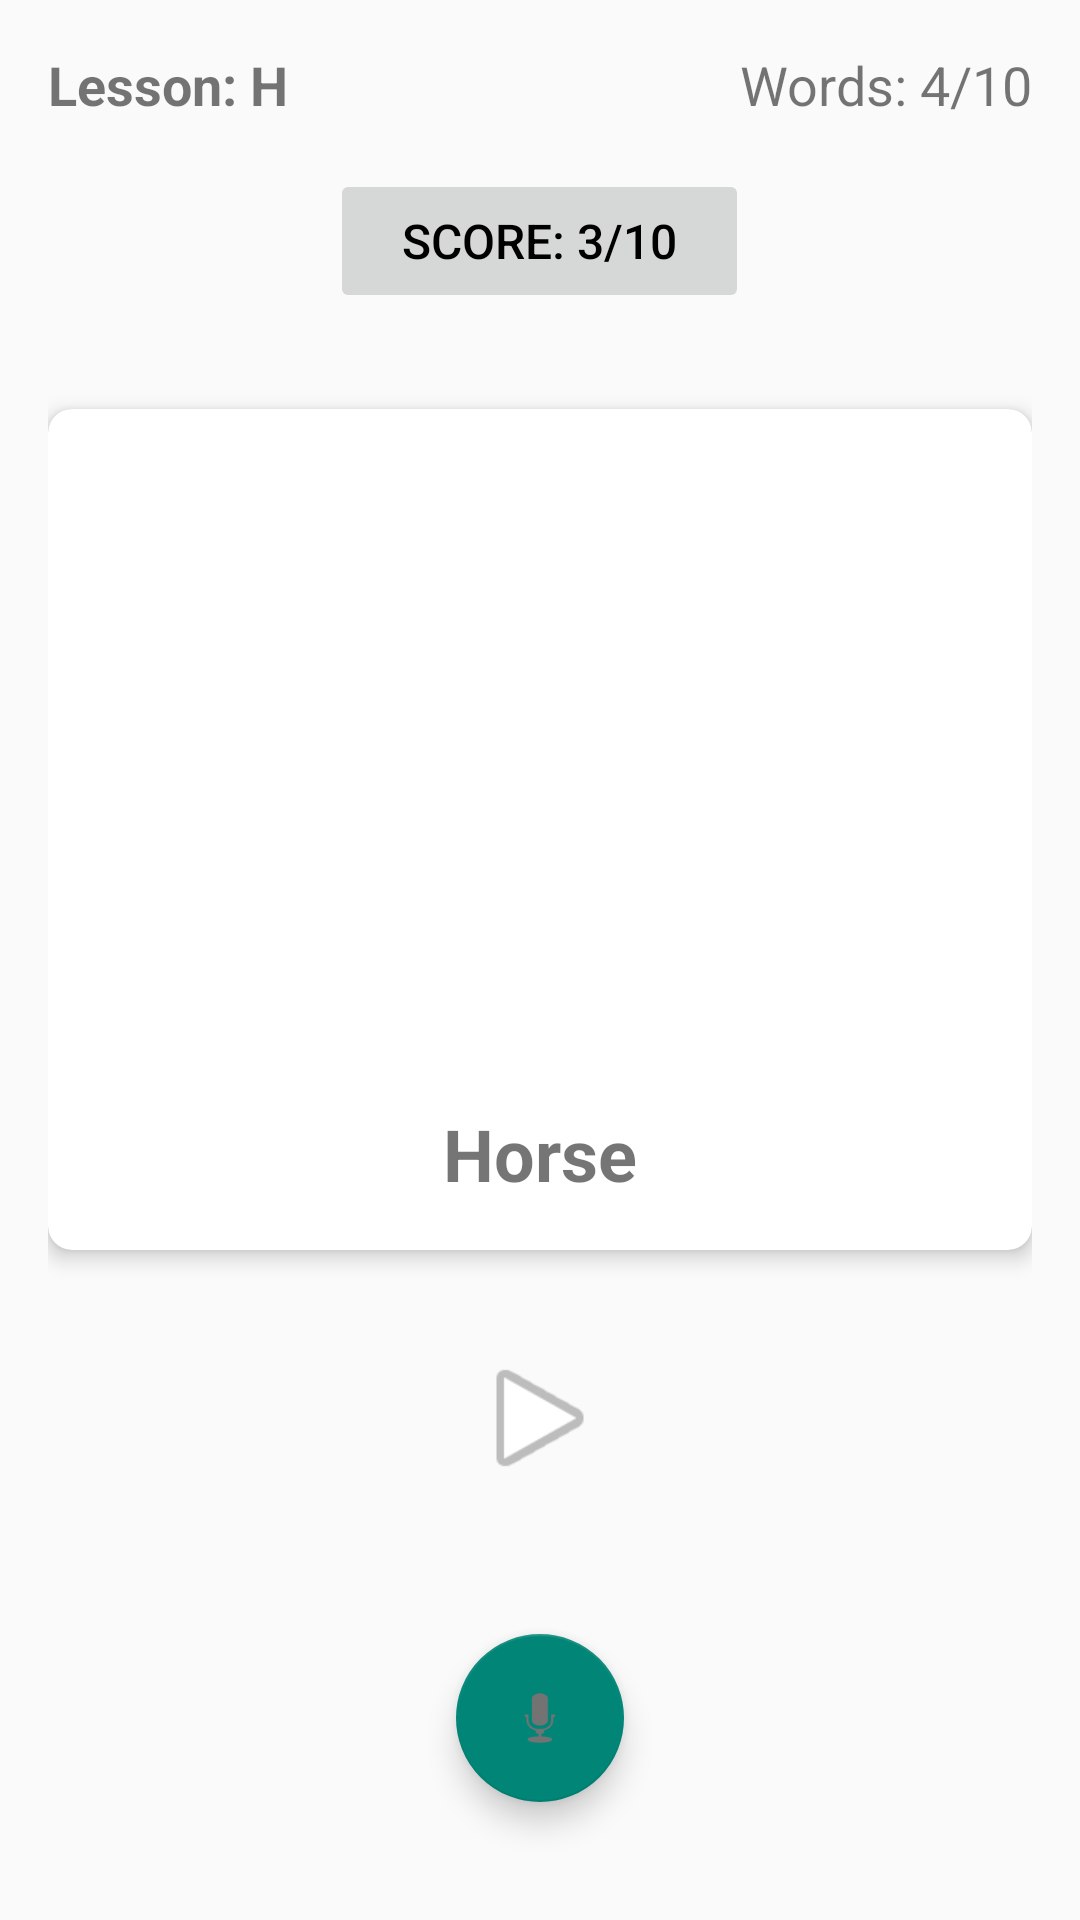

Icons on this 1080×1920 Android screen, each with its box as [x1=x1, y1=y1, x2=x2, y2=y2]:
play: [x1=496, y1=1370, x2=584, y2=1466]
speak now: [x1=456, y1=1634, x2=624, y2=1802]
